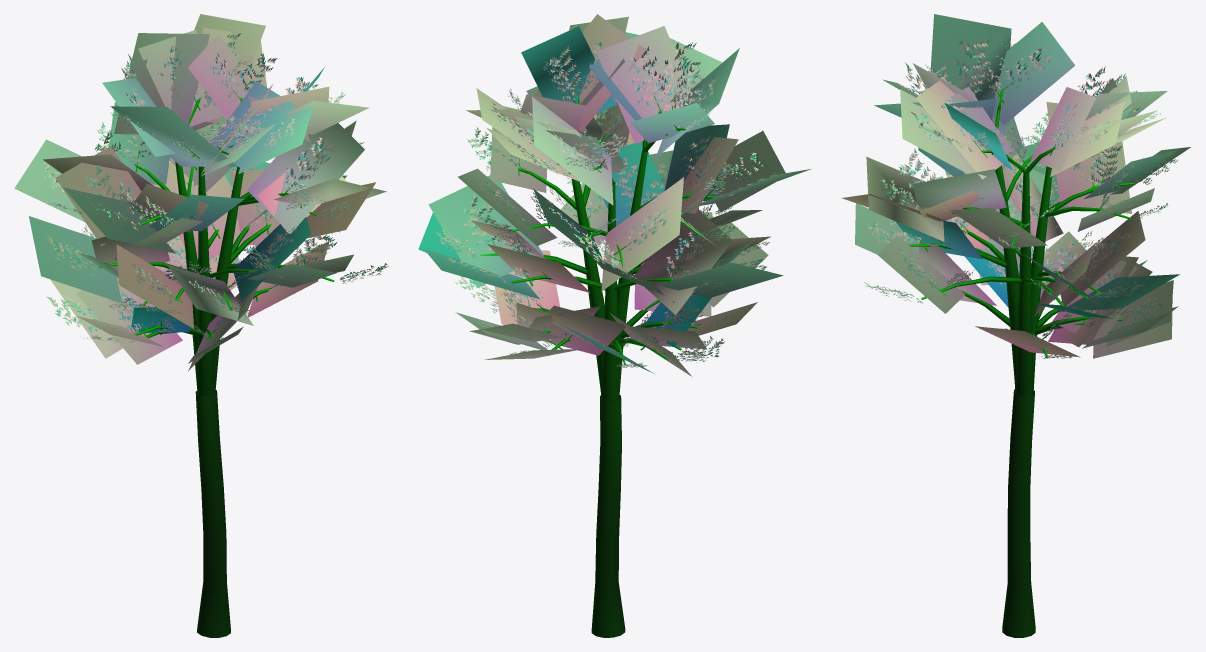
The model's file is hill_b_2.glb.
3 renders of one model, left to right at view 1: azimuth 30°, elevation 25°; view 2: azimuth 150°, elevation 25°; view 3: azimuth 270°, elevation 25°, orthographic.
Visible parts, largest first — view 1: mid, near; view 2: mid, near; view 3: mid, near.
Part boxes in pixels (x1,y1,x2,y2): mid: (14,14,386,396); near: (42,33,388,637); mid: (418,14,810,402); near: (433,42,777,637); mid: (841,14,1190,395); near: (863,39,1177,637).
Bounding box in the file's own units: 7.59 × 12.74 × 7.06.
